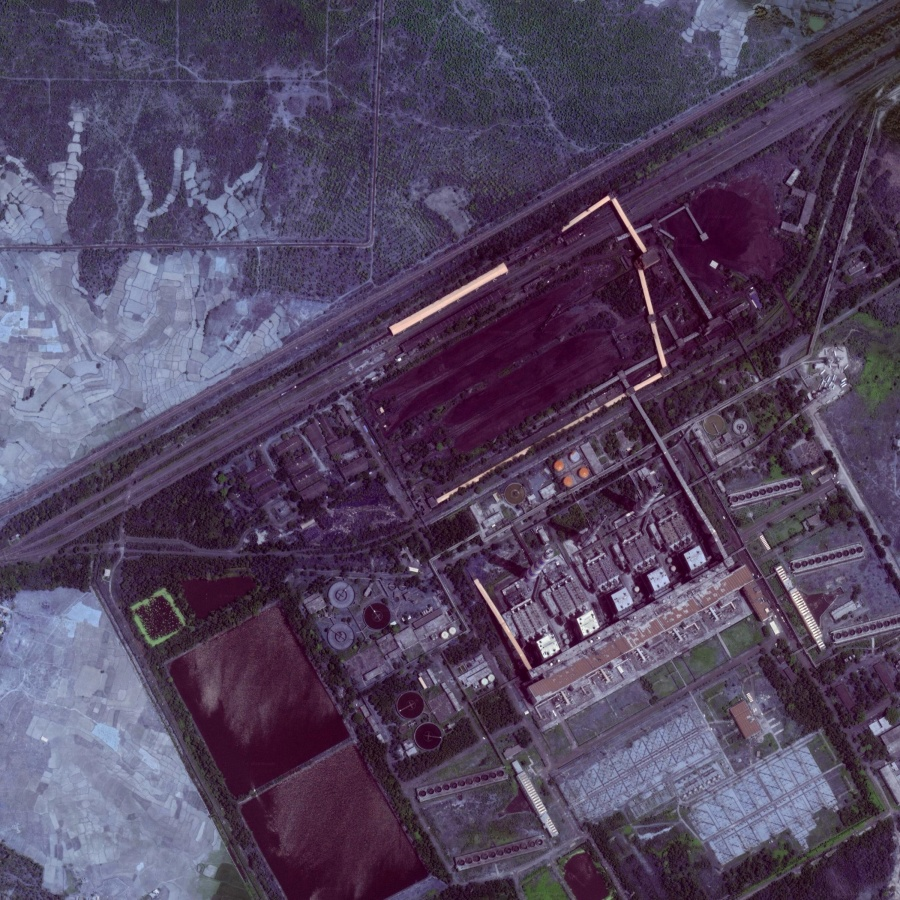PowerPlant: (354, 145, 778, 522)
